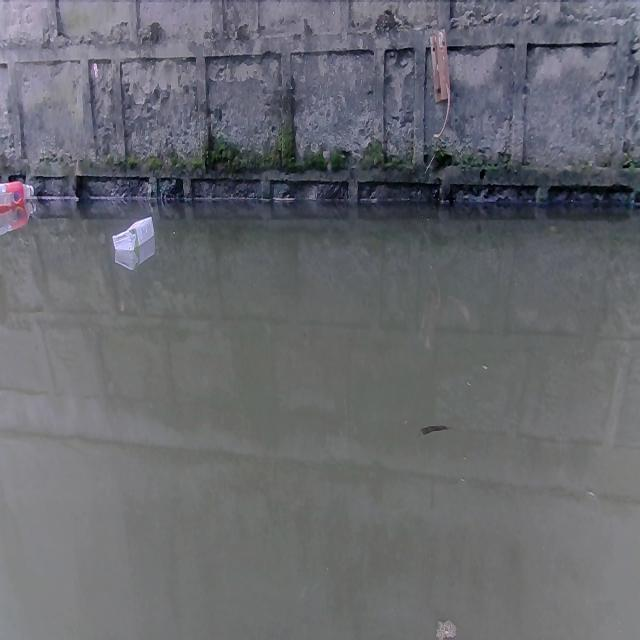bottle: (112, 217, 159, 254), (0, 178, 38, 209)
